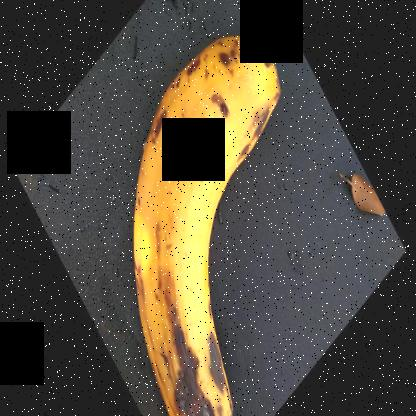overripe: (101, 22, 298, 415)
